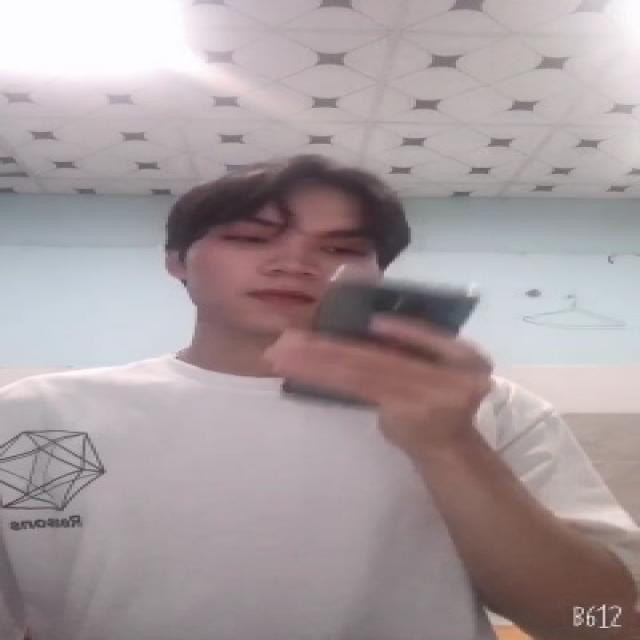Phone: (276, 276, 483, 410)
